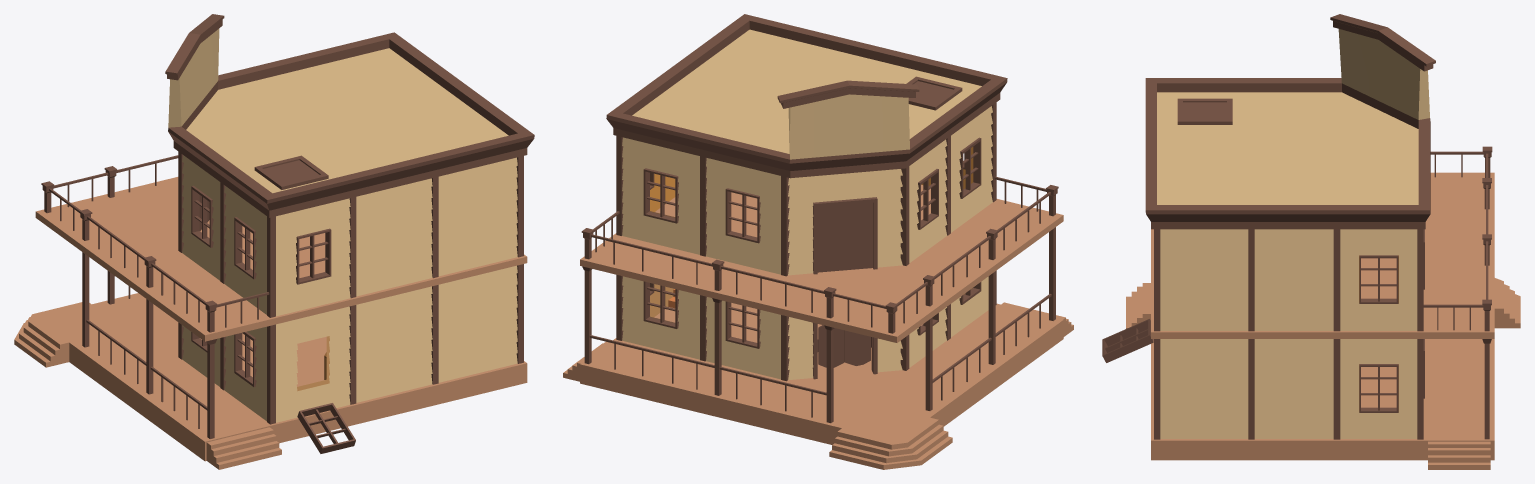
Rendered from edittedsaloon.fbx.
3 renders of one model, left to right at view 1: azimuth 30°, elevation 25°; view 2: azimuth 150°, elevation 25°; view 3: azimuth 270°, elevation 25°, orthographic. The views are drawn at different scales.
Parts seen in each view (by area): view 1: Teto, OldalLec, Talaj, AblakosOldalLec, Emelet, KulsoKorlat, Ablak, KulsoEsOszlopok.001, KulsoEsOszlopok; view 2: Teto, Talaj, AblakosOldalLec, Emelet, KulsoKorlat, Bejarat, Ablak, KulsoEsOszlopok.001, FentiAjto, KulsoEsOszlopok, Ajto; view 3: Teto, OldalLec, Talaj, Emelet, AblakosOldalLec, Ablak, KulsoEsOszlopok.001, KulsoEsOszlopok, KulsoKorlat.
Part boxes in pixels (x1,y1,x2,y2): Teto: (165,14,534,217); OldalLec: (356,157,517,402); Talaj: (14,293,527,469); AblakosOldalLec: (182,155,350,422); Emelet: (35,177,527,341); KulsoKorlat: (41,155,269,438); Ablak: (191,185,355,453); KulsoEsOszlopok.001: (178,151,523,317); KulsoEsOszlopok: (178,264,523,424); Teto: (606,14,1007,178); Talaj: (563,302,1073,469); AblakosOldalLec: (622,106,992,379); Emelet: (580,184,1063,342); KulsoKorlat: (581,176,1058,423); Bejarat: (788,169,902,380); Ablak: (643,137,981,348); KulsoEsOszlopok.001: (616,102,996,276); FentiAjto: (812,197,877,274); KulsoEsOszlopok: (616,270,996,381); Ajto: (812,322,877,379); Teto: (1145,14,1435,229); OldalLec: (1160,229,1333,438); Talaj: (1126,278,1520,469); Emelet: (1151,172,1494,338); AblakosOldalLec: (1340,229,1417,438); Ablak: (1102,229,1424,412); KulsoEsOszlopok.001: (1154,229,1423,331); KulsoEsOszlopok: (1154,339,1423,439); KulsoKorlat: (1423,146,1492,439).
Size of the model in its own units: 3894 by 3251 by 3810.
